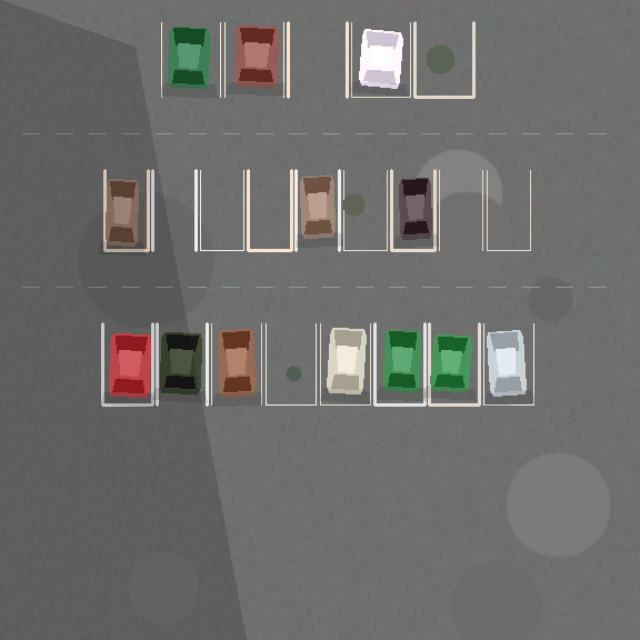space-empty: (288, 22, 347, 97), (414, 22, 473, 97), (266, 323, 316, 404), (152, 170, 196, 250), (343, 170, 387, 250), (200, 170, 243, 250), (248, 170, 291, 250), (439, 170, 482, 250), (487, 170, 530, 250)
space-occupied: (161, 22, 220, 97), (224, 22, 283, 97), (351, 22, 410, 97), (102, 323, 152, 404), (157, 323, 207, 404), (211, 323, 261, 404), (320, 323, 370, 404), (374, 323, 424, 404), (429, 323, 479, 404), (483, 323, 533, 404), (104, 170, 148, 250), (296, 170, 339, 250), (391, 170, 434, 250)
